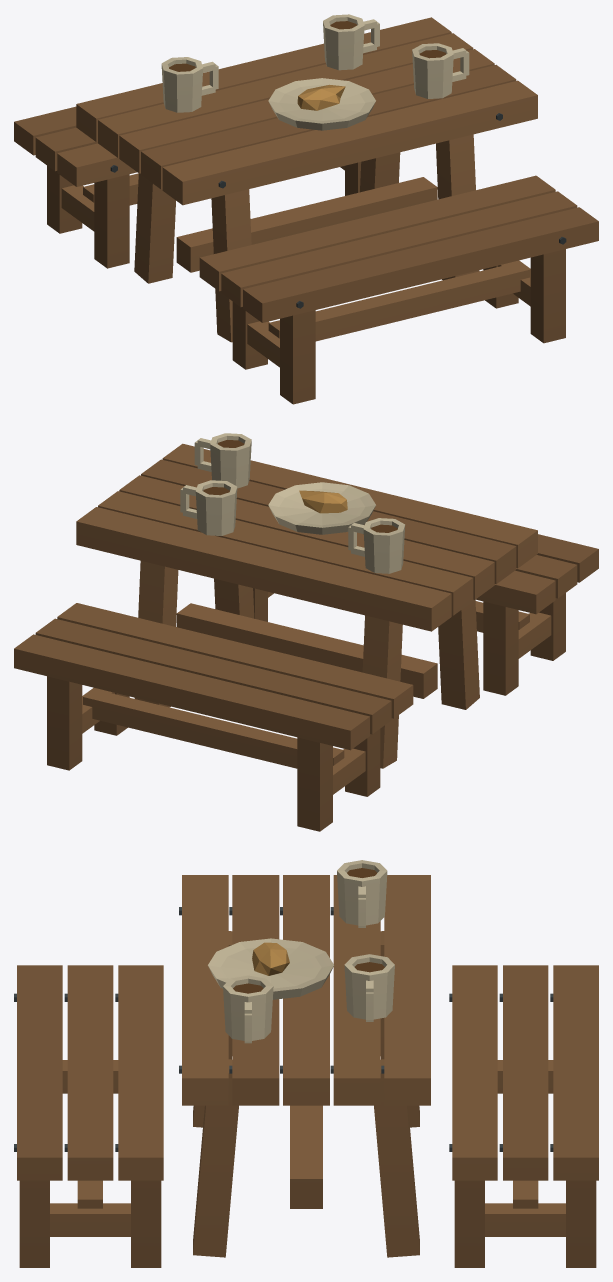
The model's file is town_table_set.glb.
3 views of the same model, one above another, from view 1: azimuth 30°, elevation 25°; view 2: azimuth 150°, elevation 25°; view 3: azimuth 270°, elevation 25° (orthographic). The views are drawn at different scales.
Visible parts, largest first — view 1: town_table_set; view 2: town_table_set; view 3: town_table_set.
Boxes of the visible parts, x1,y1,x2,y2 form: town_table_set: (14, 14, 598, 404); town_table_set: (14, 433, 598, 831); town_table_set: (14, 860, 598, 1267).
Size of the model in its own units: 1.9 by 1.14 by 2.31.
